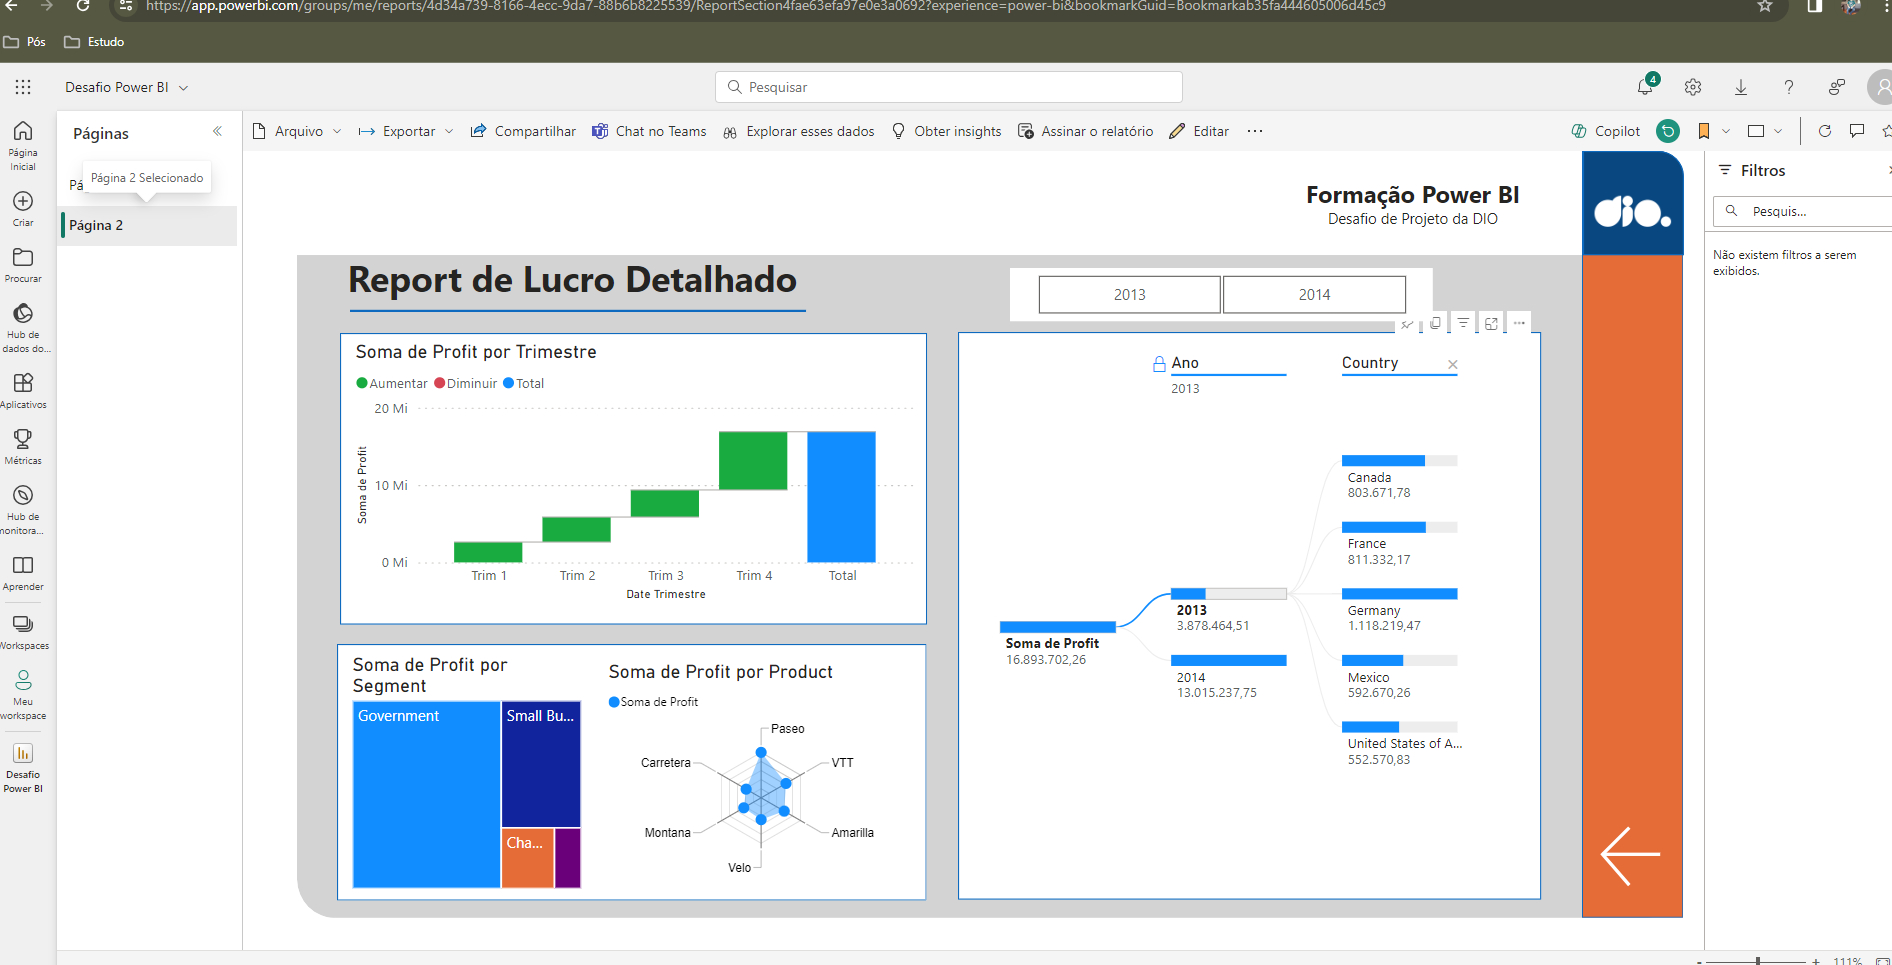

Layout of this report page (visuals, bound fields, positions):
{"tool":"powerbi","page":{"name":"Página 2","canvas":[1280,720],"ordinal":1},"visuals":[{"type":"shape","box":[31,0,1249,691.5],"z":0},{"type":"shape","box":[66.6,444.5,531.4,231.2],"z":0,"group":"g1"},{"type":"shape","box":[31,0,1158.1,93.9],"z":1000},{"type":"shape","box":[69.4,164.2,529.1,262.8],"z":1000,"group":"g1"},{"type":"shape","box":[626,162.9,525.5,511.5],"z":2000,"group":"g1"},{"type":"shape","box":[1188.8,0,91.2,691],"z":2000},{"type":"shape","box":[1189.1,0,90.9,93.9],"z":3000},{"type":"image","title":"Logo Dio","box":[1195.1,15,78.9,78.9],"z":4000},{"type":"textbox","box":[898.1,18.7,275.6,54.9],"z":5000},{"type":"shape","box":[78.1,117.2,410.9,53.9],"z":6000},{"type":"textbox","box":[59,87.2,438.7,56.4],"z":7000},{"type":"actionButton","box":[1199.2,602.3,70.1,67.4],"z":8000},{"type":"group","id":"g1","title":"Cartões","box":[66.6,162.9,1084.9,512.8],"z":11000},{"type":"treemap","fields":{"Group":["financials.Segment"],"Values":["Sum(financials.Profit)"]},"box":[75.9,452,216.1,217.2],"z":11500},{"type":"waterfallChart","fields":{"Category":["financials.Date.Variation.Hierarquia de datas.Trimestre"],"Y":["Sum(financials.Profit)"]},"box":[78.2,170.5,512.7,239.4],"z":11501},{"type":"decompositionTreeVisual","fields":{"Analyze":["Sum(financials.Profit)"],"ExplainBy":["financials.Date.Variation.Hierarquia de datas.Ano","financials.Country"]},"box":[634.2,165.8,509.2,504.5],"z":11502},{"type":"slicer","fields":{"Values":["financials.Date.Variation.Hierarquia de datas.Ano"]},"box":[672.7,105.1,380.7,47.9],"z":11503},{"type":"RadarChart1446119667547","fields":{"Y":["Sum(financials.Profit)"],"Category":["financials.Product"]},"box":[306,459,285,202],"z":11504}]}

Visuals, with their boxes on the page's 1280x720 design canvas (x1, y1, x2, y2). These are canvas units, not pixel positions in the 1892x965 screenshot, which may show the page scaled, cropped or inside an application window:
shape: select_region(31, 0, 1280, 692)
shape: select_region(67, 444, 598, 676)
shape: select_region(31, 0, 1189, 94)
shape: select_region(69, 164, 598, 427)
shape: select_region(626, 163, 1152, 674)
shape: select_region(1189, 0, 1280, 691)
shape: select_region(1189, 0, 1280, 94)
"Logo Dio" image: select_region(1195, 15, 1274, 94)
textbox: select_region(898, 19, 1174, 74)
shape: select_region(78, 117, 489, 171)
textbox: select_region(59, 87, 498, 144)
actionButton: select_region(1199, 602, 1269, 670)
"Cartões" group: select_region(67, 163, 1152, 676)
treemap - financials.Segment x Sum(financials.Profit): select_region(76, 452, 292, 669)
waterfallChart - financials.Date.Variation.Hierarquia de datas.Trimestre x Sum(financials.Profit): select_region(78, 170, 591, 410)
decompositionTreeVisual - Sum(financials.Profit) x financials.Date.Variation.Hierarquia de datas.Ano: select_region(634, 166, 1143, 670)
slicer - financials.Date.Variation.Hierarquia de datas.Ano: select_region(673, 105, 1053, 153)
RadarChart1446119667547 - Sum(financials.Profit) x financials.Product: select_region(306, 459, 591, 661)
